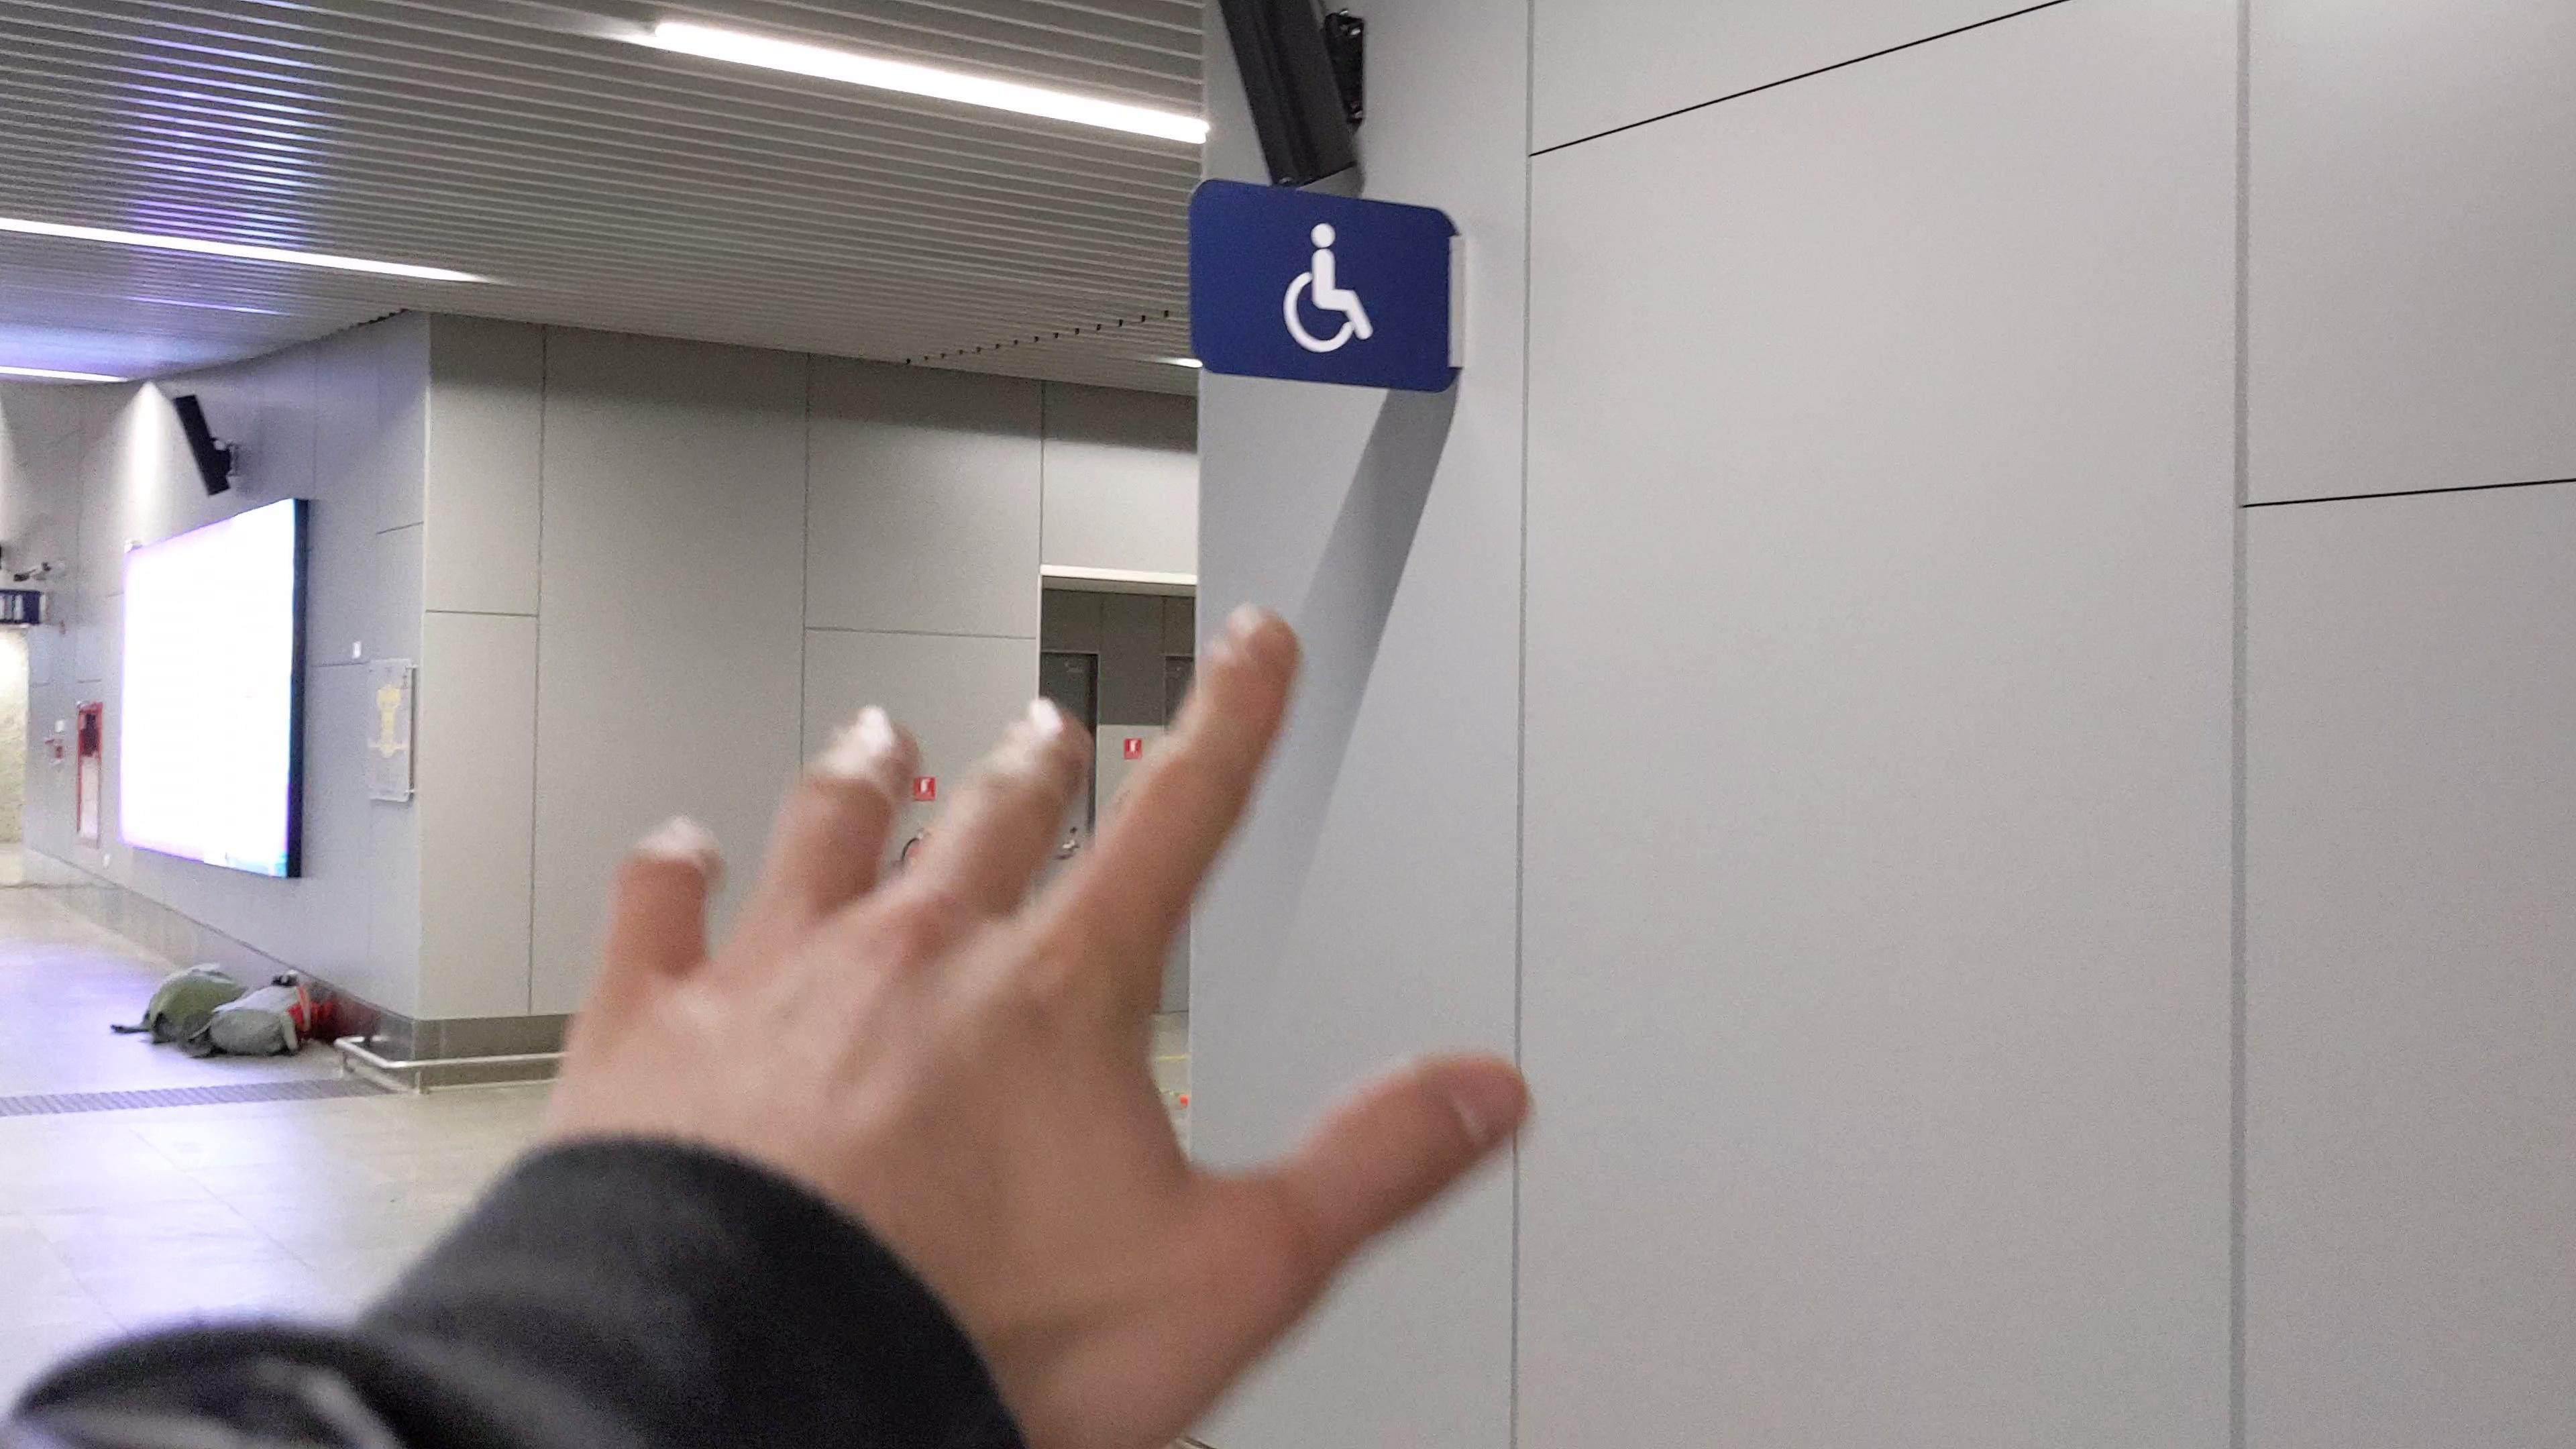handicapped symbol: (1281, 221, 1376, 354)
